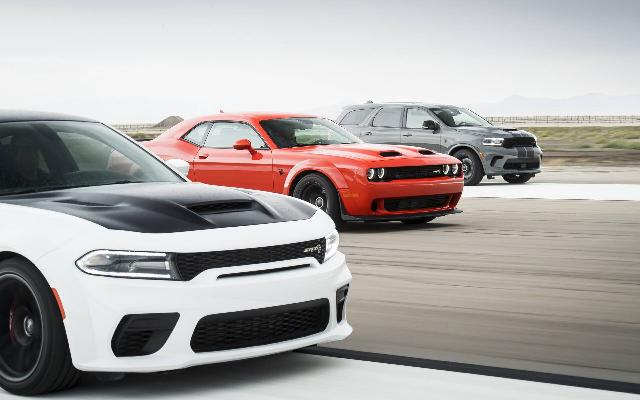dodge: (1, 109, 353, 397), (108, 112, 464, 232), (328, 100, 544, 184)
